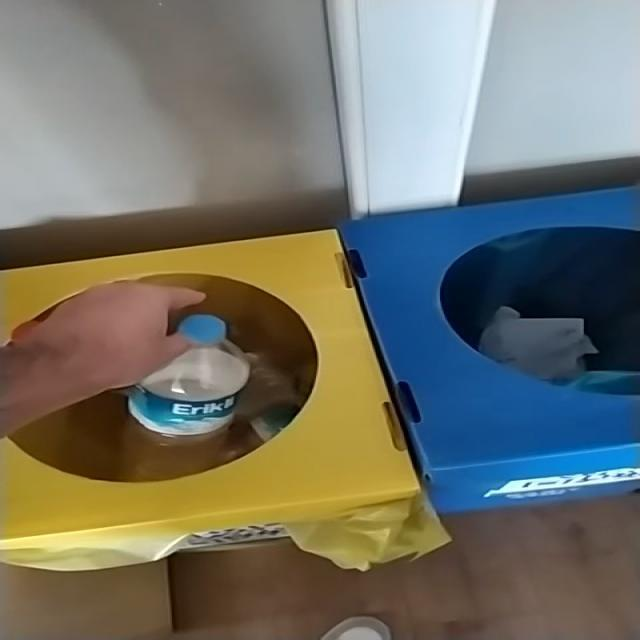Plastic: (128, 315, 249, 479)
